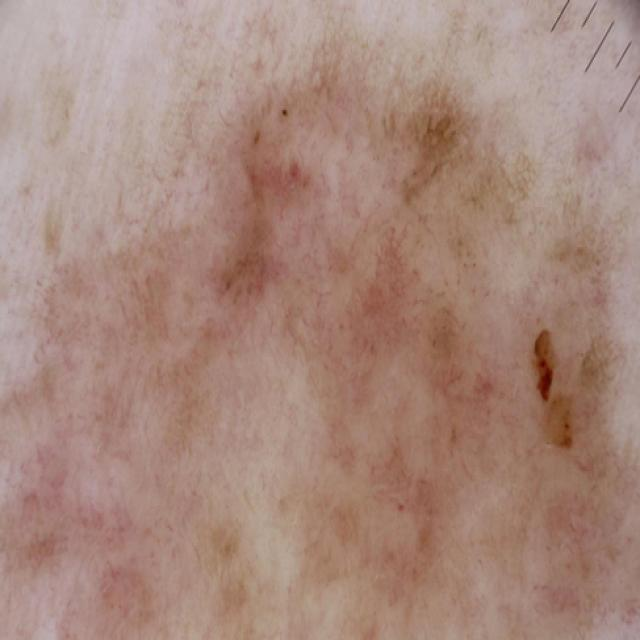Carcinoma: (13, 53, 639, 640)
